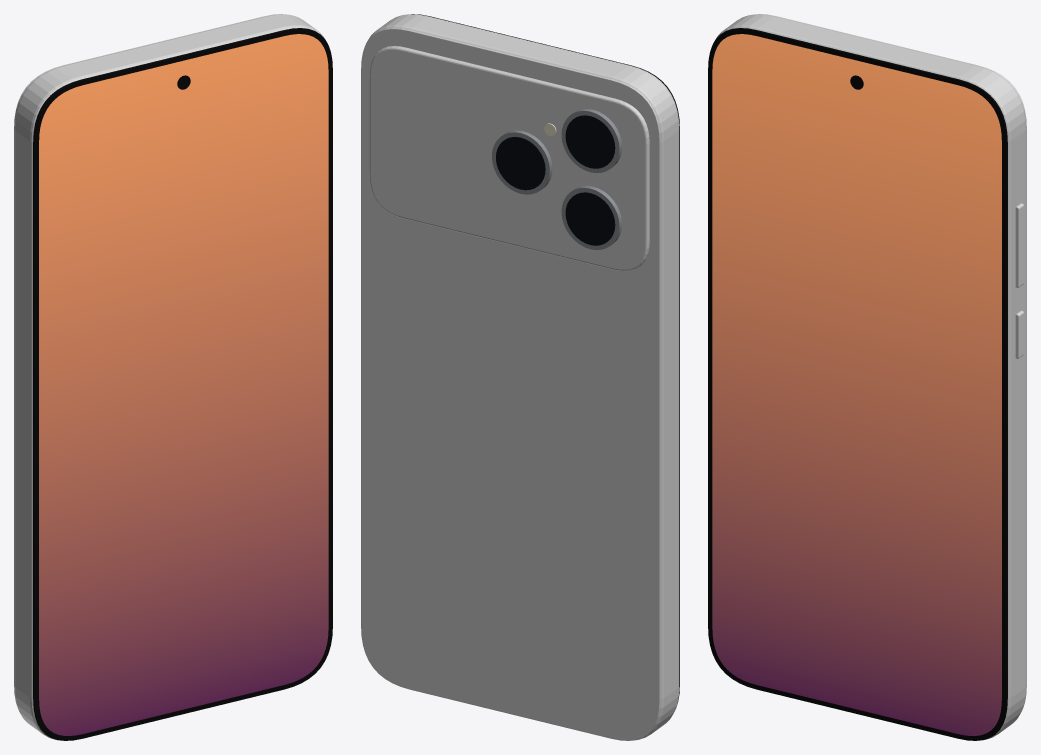
File: APL-IP17PM.glb
3 views of the same model, side by side, from view 1: azimuth 30°, elevation 25°; view 2: azimuth 150°, elevation 25°; view 3: azimuth 330°, elevation 25° (orthographic).
Parts seen in each view (by area): view 1: screen, body, front, back-plate; view 2: back-plate, camera-island, body, camera-lens-1, camera-lens-2, camera-lens-0, camera-ring-0, camera-ring-2, camera-ring-1, front; view 3: screen, body, front, back-plate, button-0.
Boxes of the visible parts, bbox=[...] form: screen: bbox=[39, 34, 328, 735]; body: bbox=[14, 14, 327, 739]; front: bbox=[33, 28, 332, 740]; back-plate: bbox=[14, 14, 281, 702]; back-plate: bbox=[361, 28, 660, 740]; camera-island: bbox=[369, 46, 649, 271]; body: bbox=[366, 14, 679, 739]; camera-lens-1: bbox=[565, 192, 615, 245]; camera-lens-2: bbox=[496, 137, 545, 190]; camera-lens-0: bbox=[565, 115, 615, 168]; camera-ring-0: bbox=[561, 109, 622, 173]; camera-ring-2: bbox=[492, 130, 552, 194]; camera-ring-1: bbox=[561, 186, 622, 249]; front: bbox=[412, 14, 679, 702]; screen: bbox=[712, 34, 1001, 735]; body: bbox=[713, 14, 1026, 739]; front: bbox=[708, 28, 1007, 740]; back-plate: bbox=[759, 14, 1026, 702]; button-0: bbox=[1015, 203, 1023, 287].
Bounding box in the file's own units: 0.0789 × 0.1637 × 0.0116.
